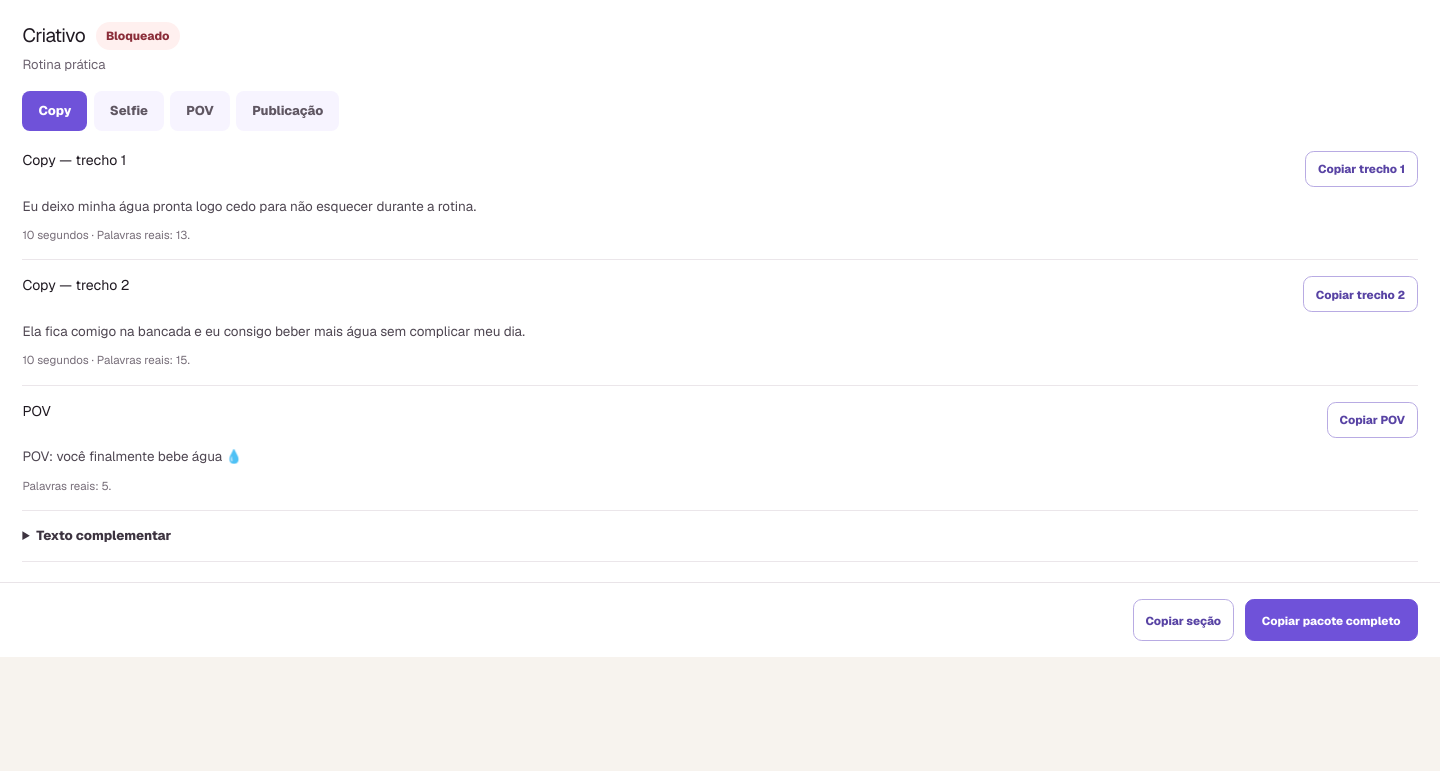
it: ResultCard › blocks only description while VEO stays copyable
Click the tab "Publicação" at point(288, 111), box [236,91,339,131]
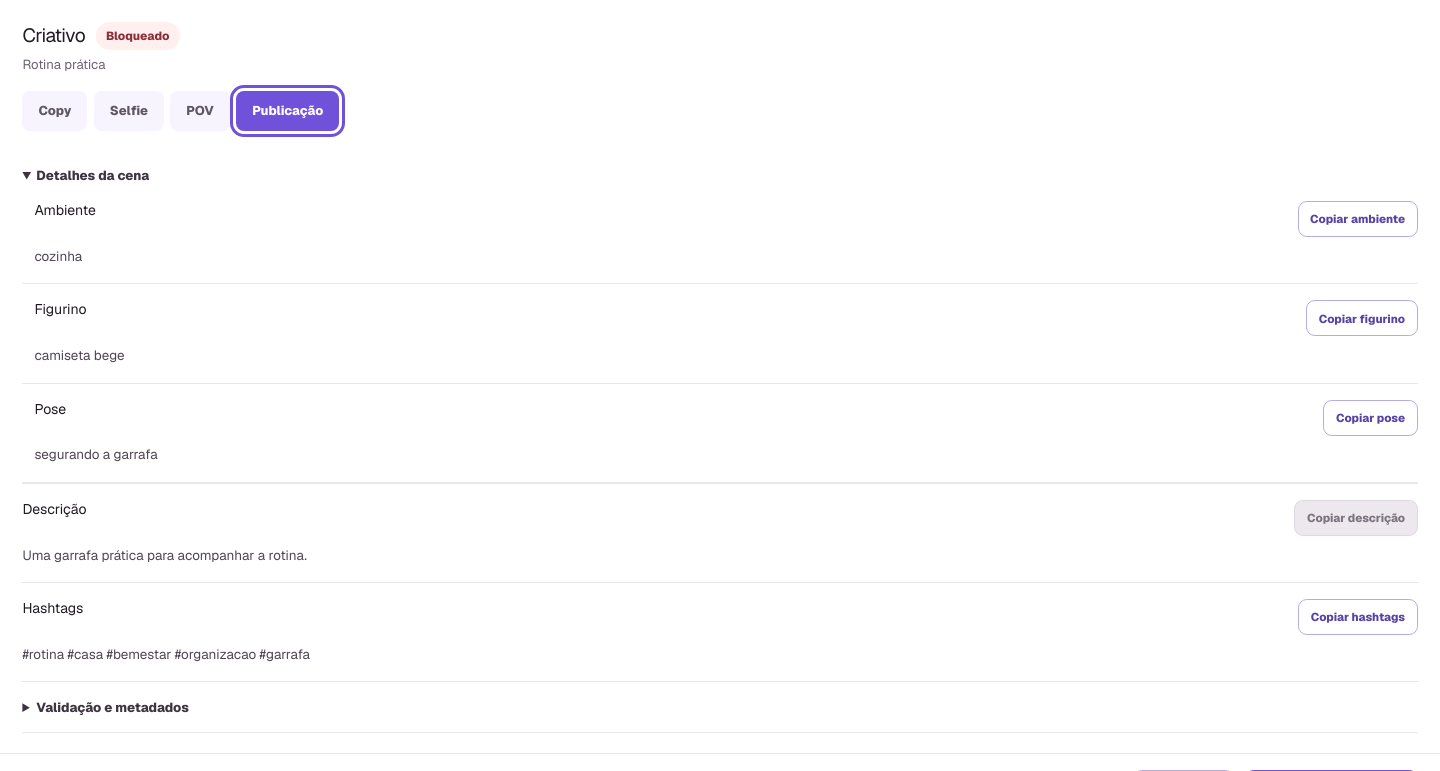
expect the button "Copiar descrição" is disabled: met, box [1294,500,1418,536]
Click the tab "Selfie" at point(129, 111), box [94,91,164,131]
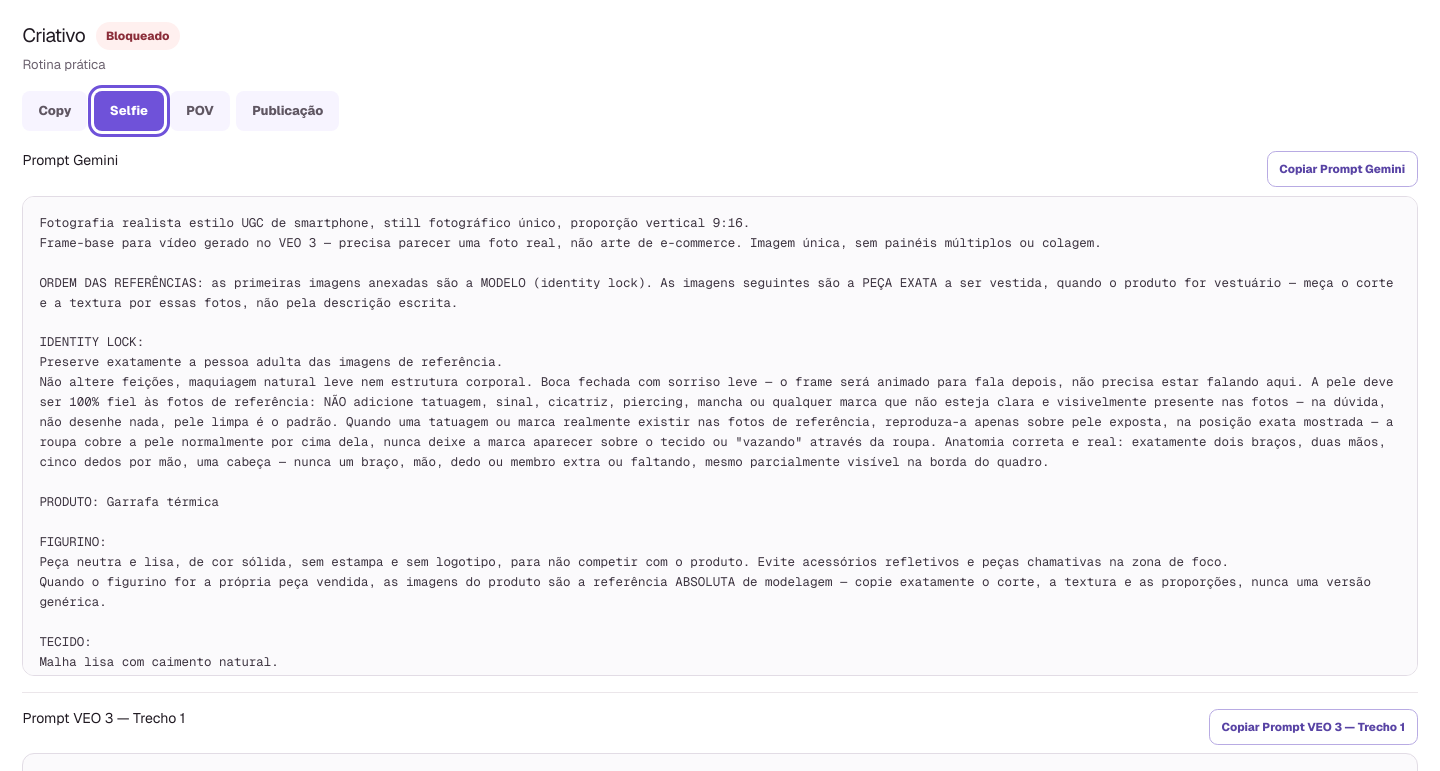
expect the button "Copiar Prompt VEO 3 — Trecho 1" is enabled: met, box [1209,709,1418,745]
